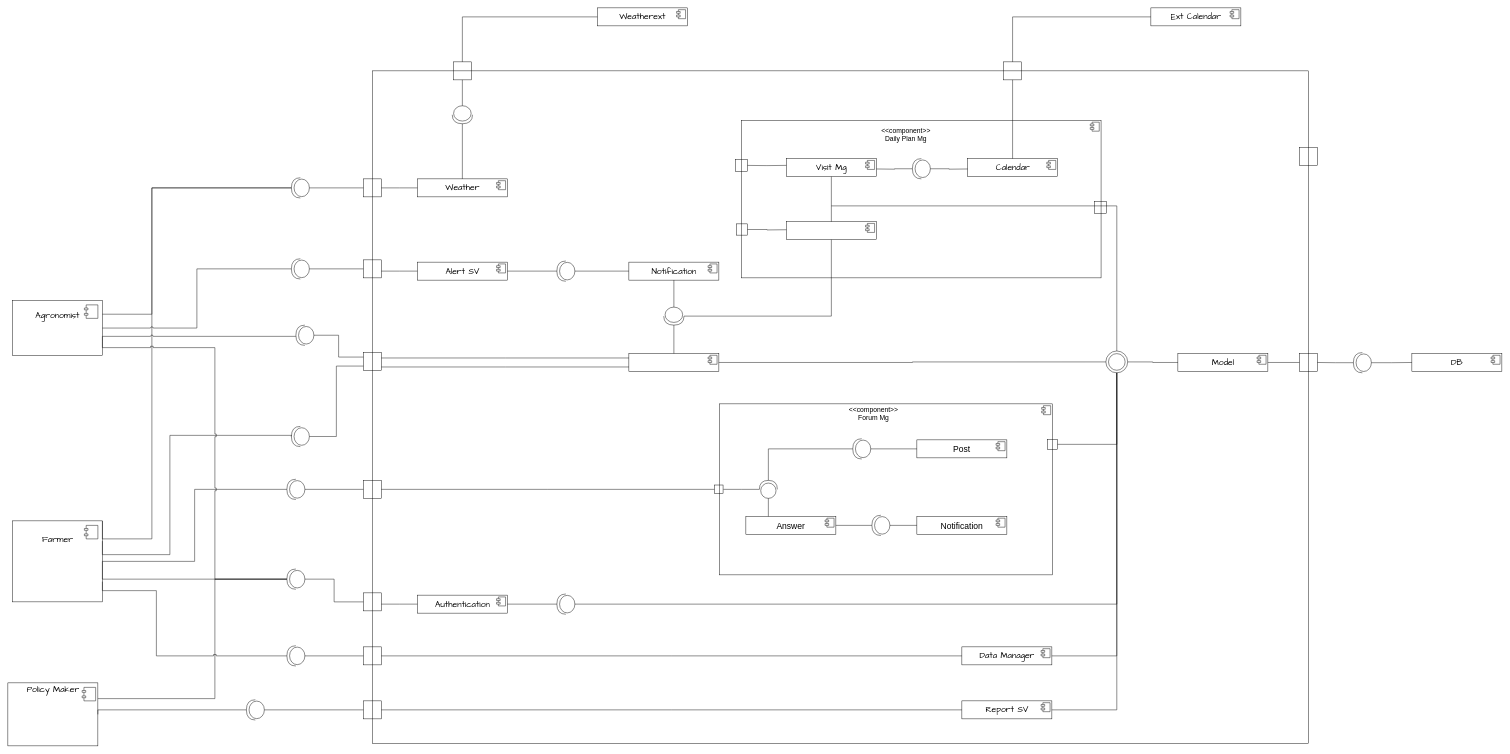
This 1510x754 diagram has some shape labels left out. Each missing label, with the box of its shape:
Report: (786, 221, 876, 240)
Ticket Service: (628, 353, 719, 371)
